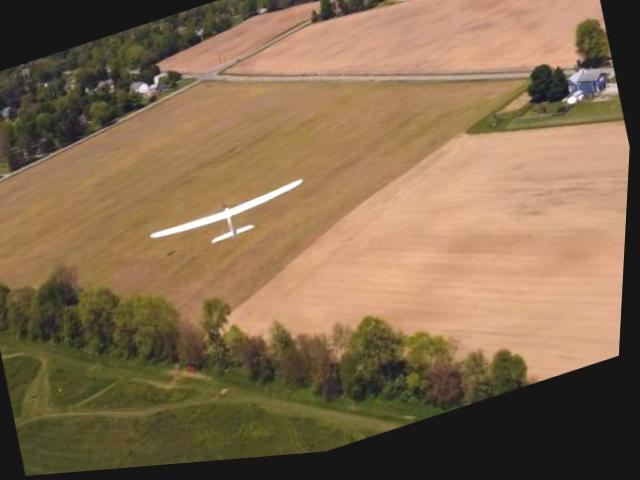uav: (135, 159, 326, 289)
